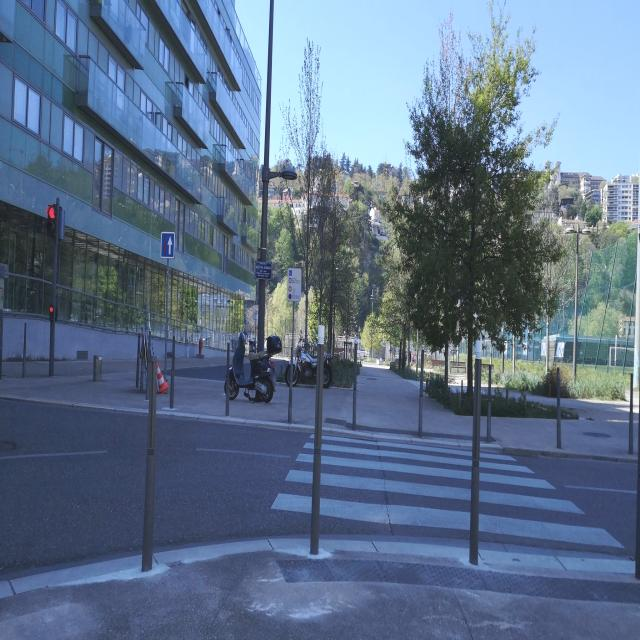bike: (223, 325, 280, 406), (284, 336, 330, 390)
